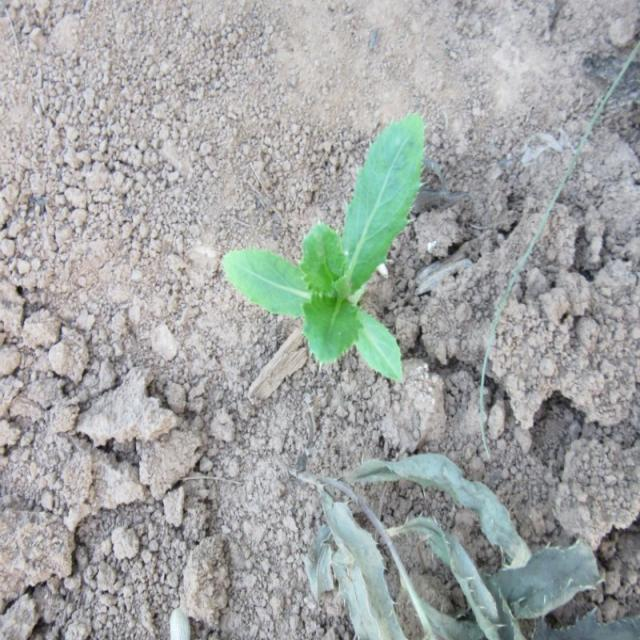cs: (221, 108, 429, 390)
